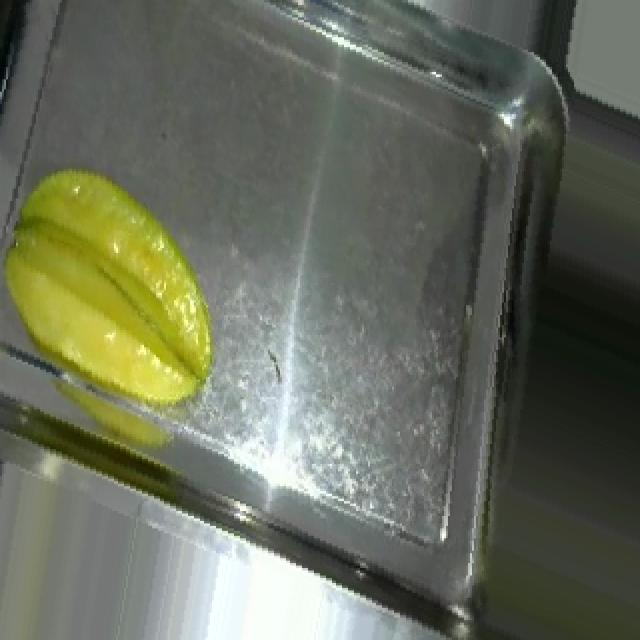fruit: (0, 134, 252, 444)
